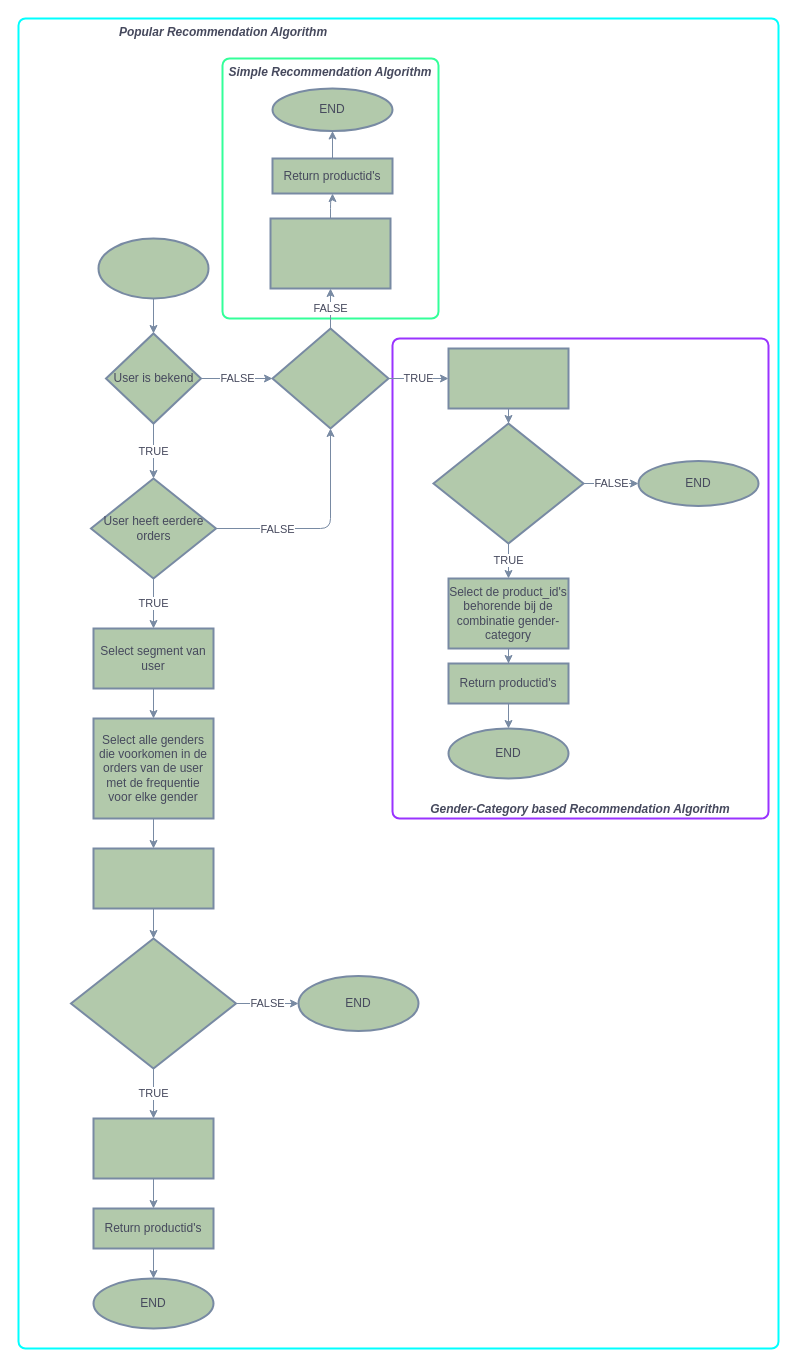
This 796x1366 diagram has some shape labels left out. Each missing label, with the centre of its shape:
"De combinatie gender-category bestaat in de tabel gender_category" goes at [508,483].
"De combinatie segment-gender-category bestaat in de tabel popular" goes at [153,1003].
"Select de productid's behorende bij de categorie uit de meest_gekocht tabel" goes at [330,253].
"Select de productid's die horen bij de combi segment-gender-category" goes at [153,1148].
"Select het gender dat het meest voorkomt" goes at [153,878].
"Select meest voorkomende product gender in klik events" goes at [508,378].
"User heeft huidige product klik events" goes at [330,378].
"User klikt op 'n categorie pagina" goes at [153,268].
